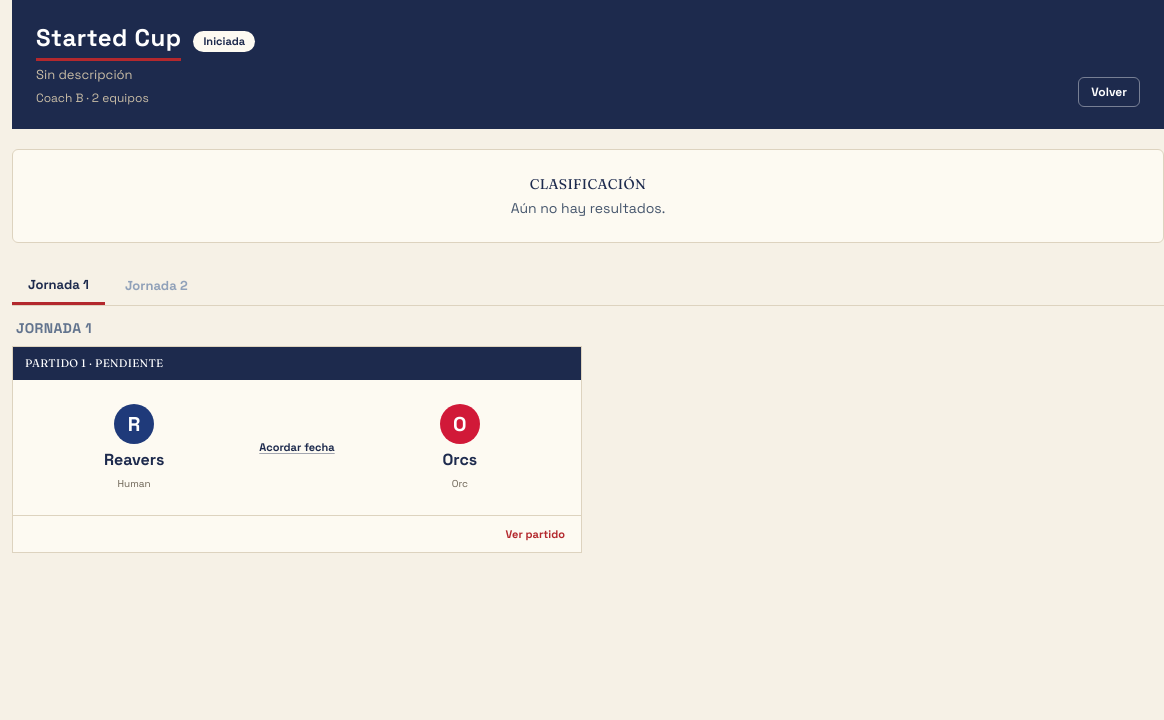
Test case: LeagueDetail — STARTED league › switches rounds via the tabs and shows the completion badge on a complete round
Expected: the text "Jornada completa" is not shown
Click the tab "Jornada 2": (156, 286) [109,266,204,305]
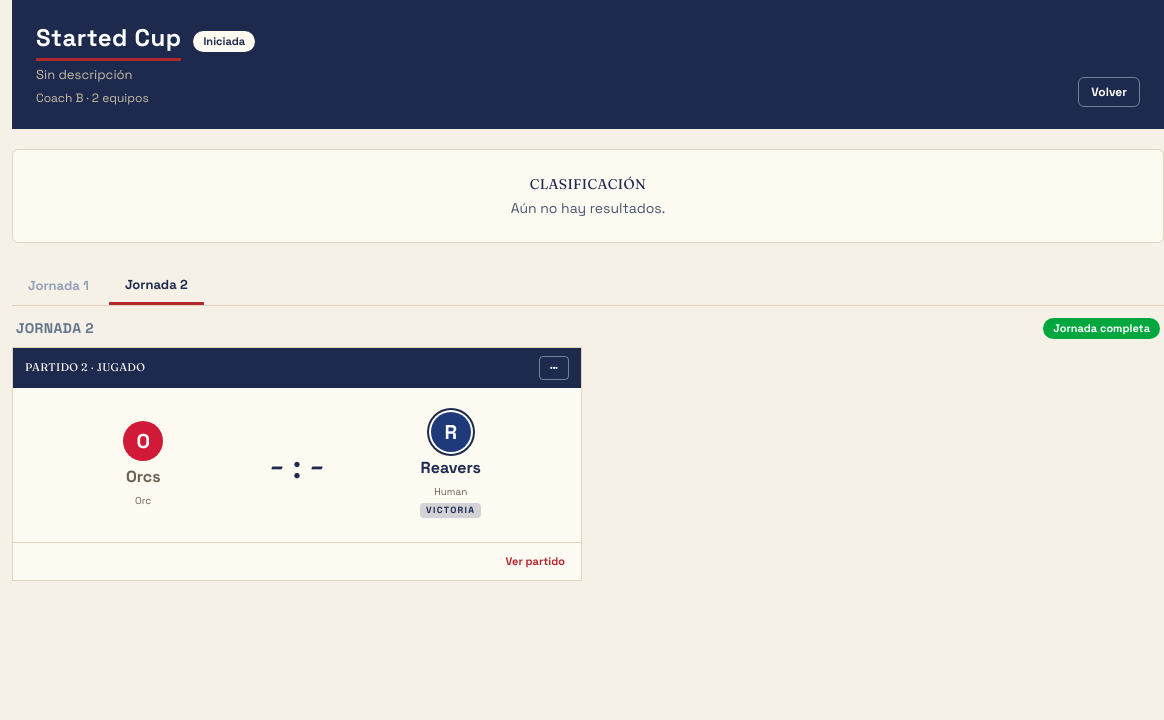
Result: the text "Jornada completa" is shown at [1043,318,1160,338]
